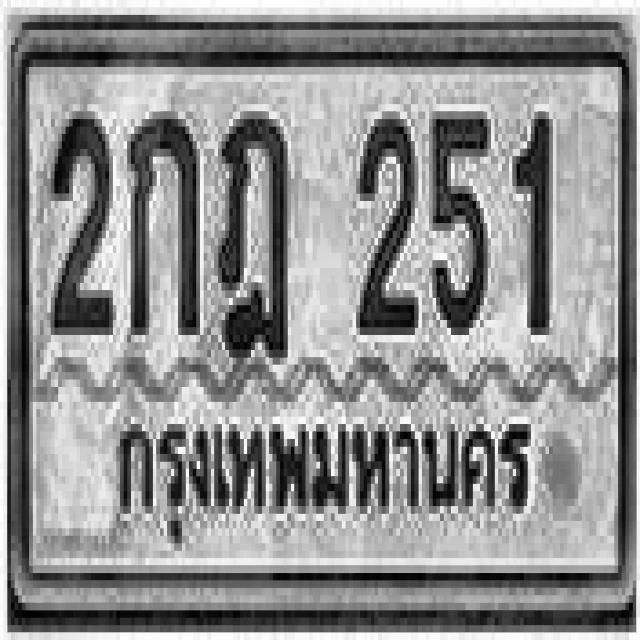license-plate: (11, 21, 632, 611)
